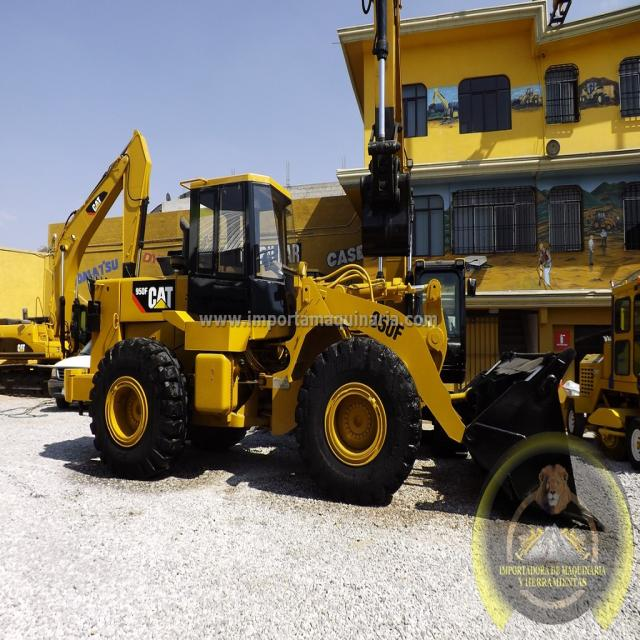buldozerpayloadergrader: (54, 132, 586, 541)
